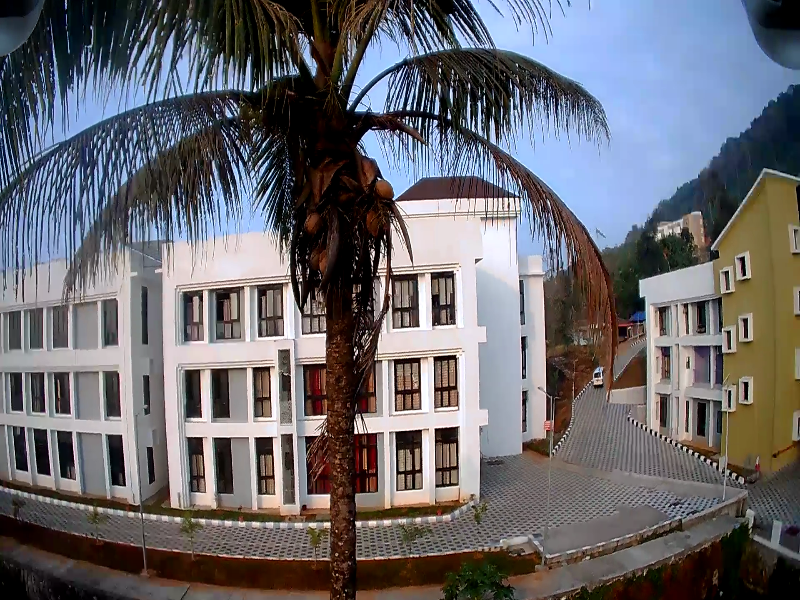coconut: (370, 175, 393, 202), (298, 207, 318, 232), (363, 207, 377, 236), (320, 251, 333, 274), (306, 245, 323, 261)
